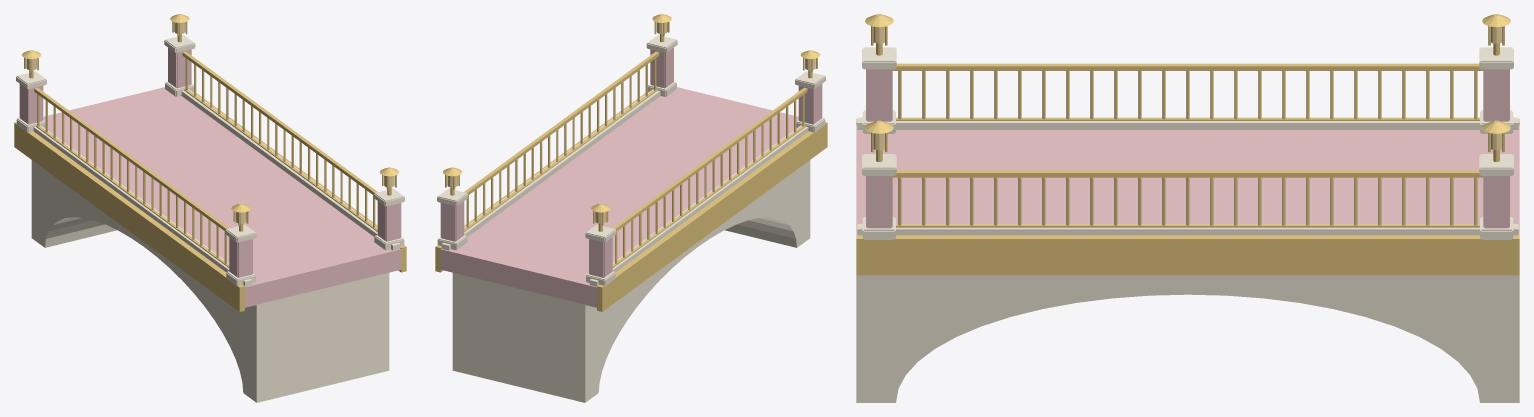
The model's file is HOB_Bridge_10m.fbx.
3 renders of one model, left to right at view 1: azimuth 30°, elevation 25°; view 2: azimuth 150°, elevation 25°; view 3: azimuth 270°, elevation 25°, orthographic. The views are drawn at different scales.
Visible parts, largest first — view 1: HOB_Bridge_10m; view 2: HOB_Bridge_10m; view 3: HOB_Bridge_10m.
Part boxes in pixels (x1,y1,x2,y2): HOB_Bridge_10m: (14,14,406,402); HOB_Bridge_10m: (435,14,827,402); HOB_Bridge_10m: (856,14,1519,402).
Size of the model in its own units: 432 by 477 by 1000.
